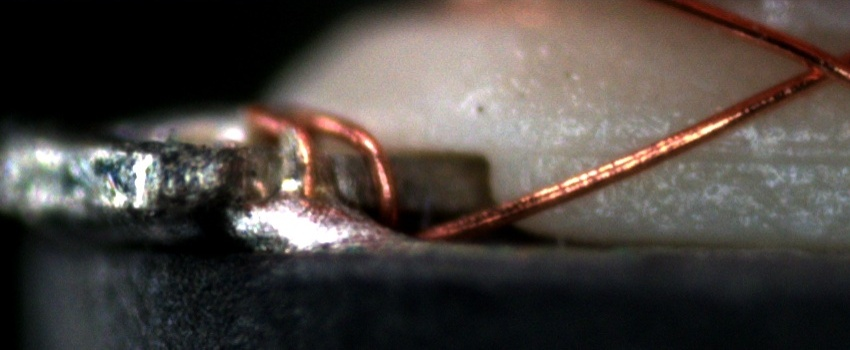CL: (780, 38, 847, 91)
DL: (536, 121, 850, 182)
TE: (242, 99, 412, 234)
